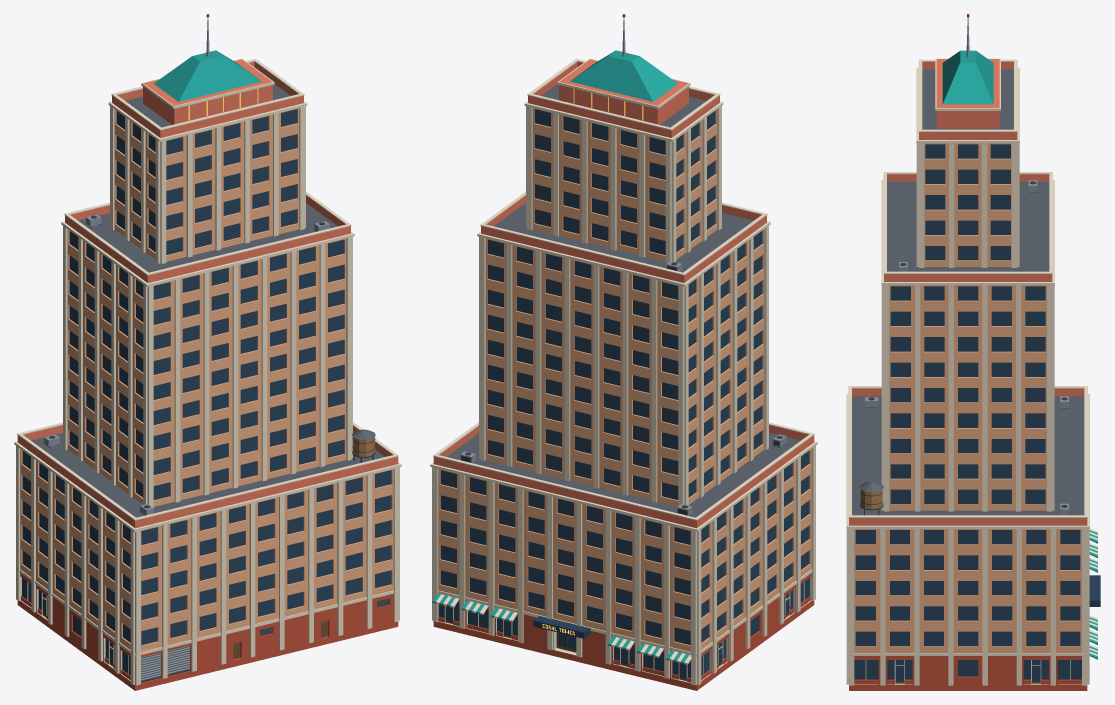
File: office_c.glb
3 renders of one model, left to right at view 1: azimuth 30°, elevation 25°; view 2: azimuth 150°, elevation 25°; view 3: azimuth 270°, elevation 25°, orthographic.
Parts seen in each view (by area): view 1: Building, Building_Glass, Building_Detail; view 2: Building, Building_Glass, Building_Detail; view 3: Building, Building_Glass, Building_Detail.
Boxes of the visible parts, left/top/right/bottom form: Building: left=14, top=17, right=401, bottom=690; Building_Glass: left=22, top=109, right=391, bottom=675; Building_Detail: left=44, top=14, right=375, bottom=659; Building: left=430, top=17, right=817, bottom=690; Building_Glass: left=438, top=109, right=809, bottom=678; Building_Detail: left=432, top=14, right=789, bottom=673; Building: left=846, top=17, right=1089, bottom=690; Building_Glass: left=854, top=144, right=1081, bottom=681; Building_Detail: left=859, top=14, right=1100, bottom=676.
Bounding box in the file's own units: 35.8 × 76.9 × 29.02.
